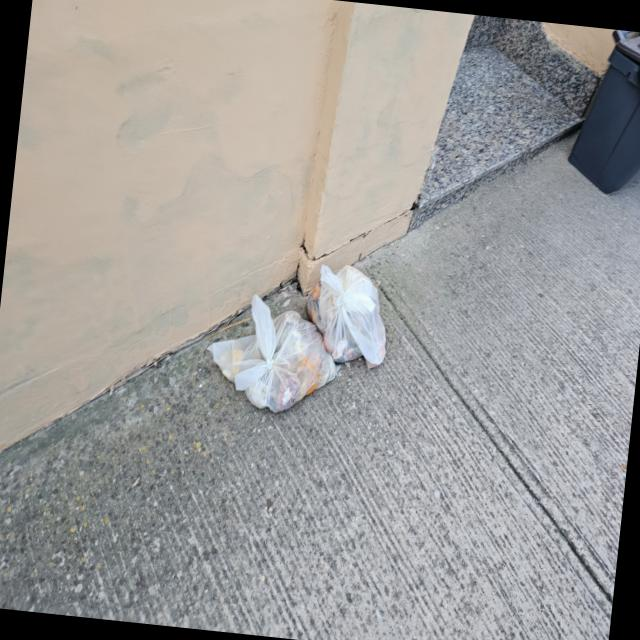white_bag: (198, 284, 348, 424), (297, 256, 399, 375)
